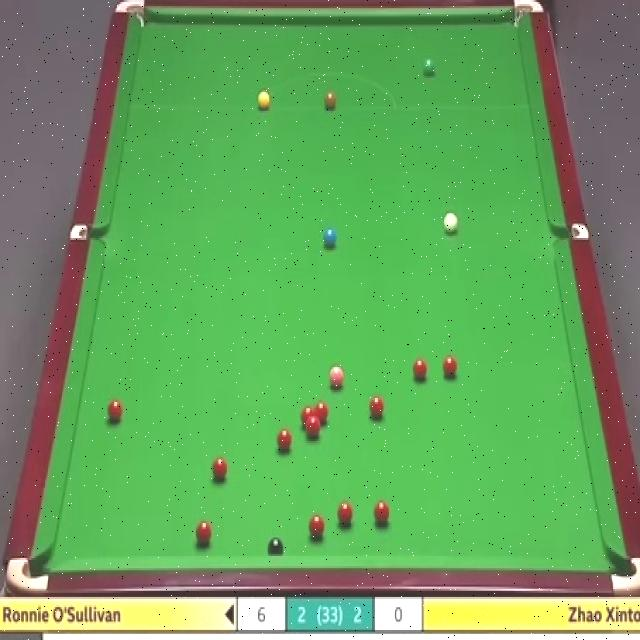black-ball: (267, 537, 286, 558)
blue-ball: (323, 226, 338, 252)
brown-ball: (324, 88, 336, 109)
green-ball: (420, 56, 435, 78)
pink-ball: (328, 366, 346, 392)
red-ball: (106, 397, 124, 425), (194, 519, 212, 547), (442, 354, 460, 381), (366, 393, 384, 419), (412, 356, 429, 383), (308, 512, 325, 539), (337, 500, 354, 526), (373, 501, 390, 527), (276, 428, 292, 454), (211, 458, 229, 479), (300, 406, 315, 431), (315, 401, 328, 426), (306, 419, 322, 439)
white-ball: (443, 212, 460, 235)
yellow-ball: (256, 91, 271, 110)
